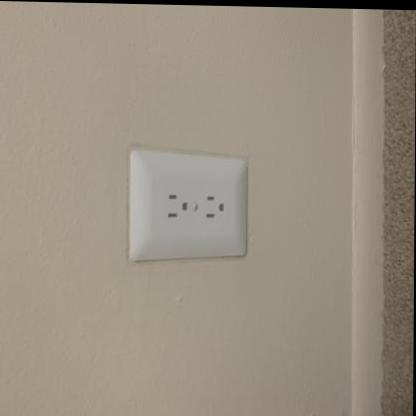OUTLET: (130, 151, 249, 265)
